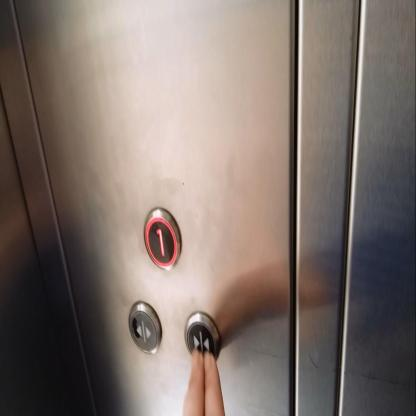1: (141, 205, 183, 273)
close: (184, 308, 221, 364)
open: (128, 300, 163, 360)
